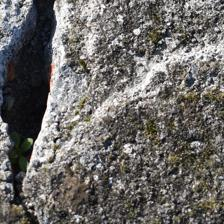Crack: (0, 89, 162, 166), (0, 81, 89, 140)
